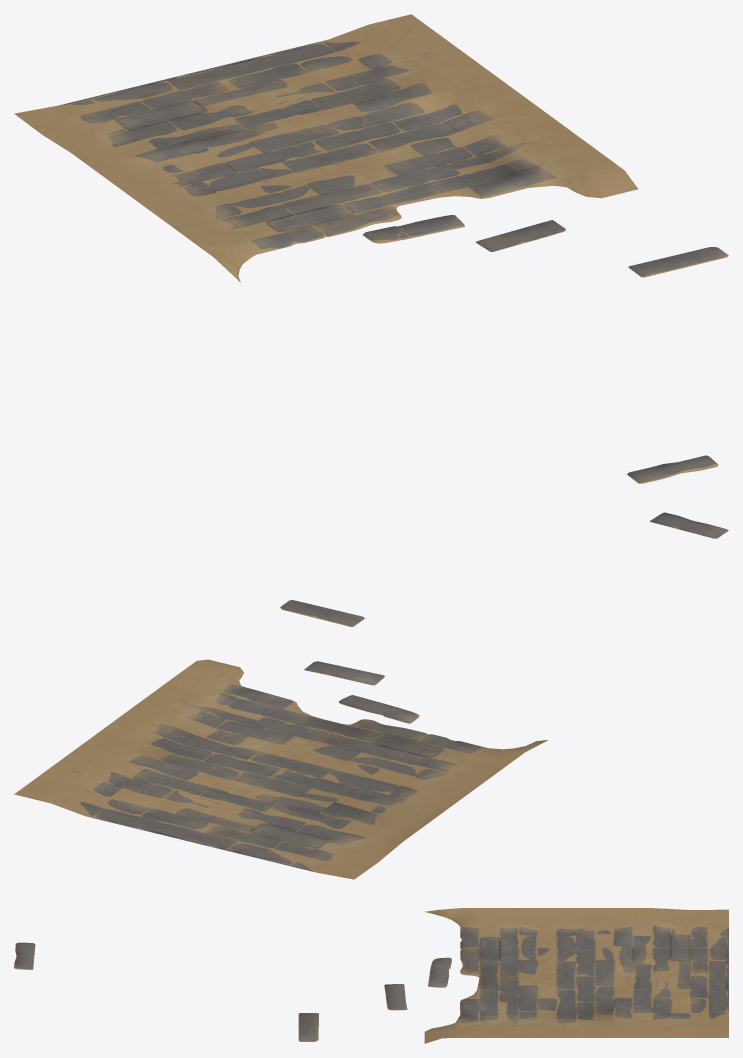
Rendered from SM_ENV_LKNVLD_Ground_Left_RoadToGarden_02.FBX.
3 renders of one model, top to bottom at view 1: azimuth 30°, elevation 25°; view 2: azimuth 150°, elevation 25°; view 3: azimuth 270°, elevation 25°, orthographic. The views are drawn at different scales.
Visible parts, largest first — view 1: SM_ENV_LKNVLD_Ground_Left_RoadToGarden_02; view 2: SM_ENV_LKNVLD_Ground_Left_RoadToGarden_02; view 3: SM_ENV_LKNVLD_Ground_Left_RoadToGarden_02.
Part boxes in pixels (x1,y1,x2,y2): SM_ENV_LKNVLD_Ground_Left_RoadToGarden_02: (14,14,728,483); SM_ENV_LKNVLD_Ground_Left_RoadToGarden_02: (14,512,728,879); SM_ENV_LKNVLD_Ground_Left_RoadToGarden_02: (14,908,728,1043).
Bounding box in the file's own units: 521 × 11.01 × 1211.
